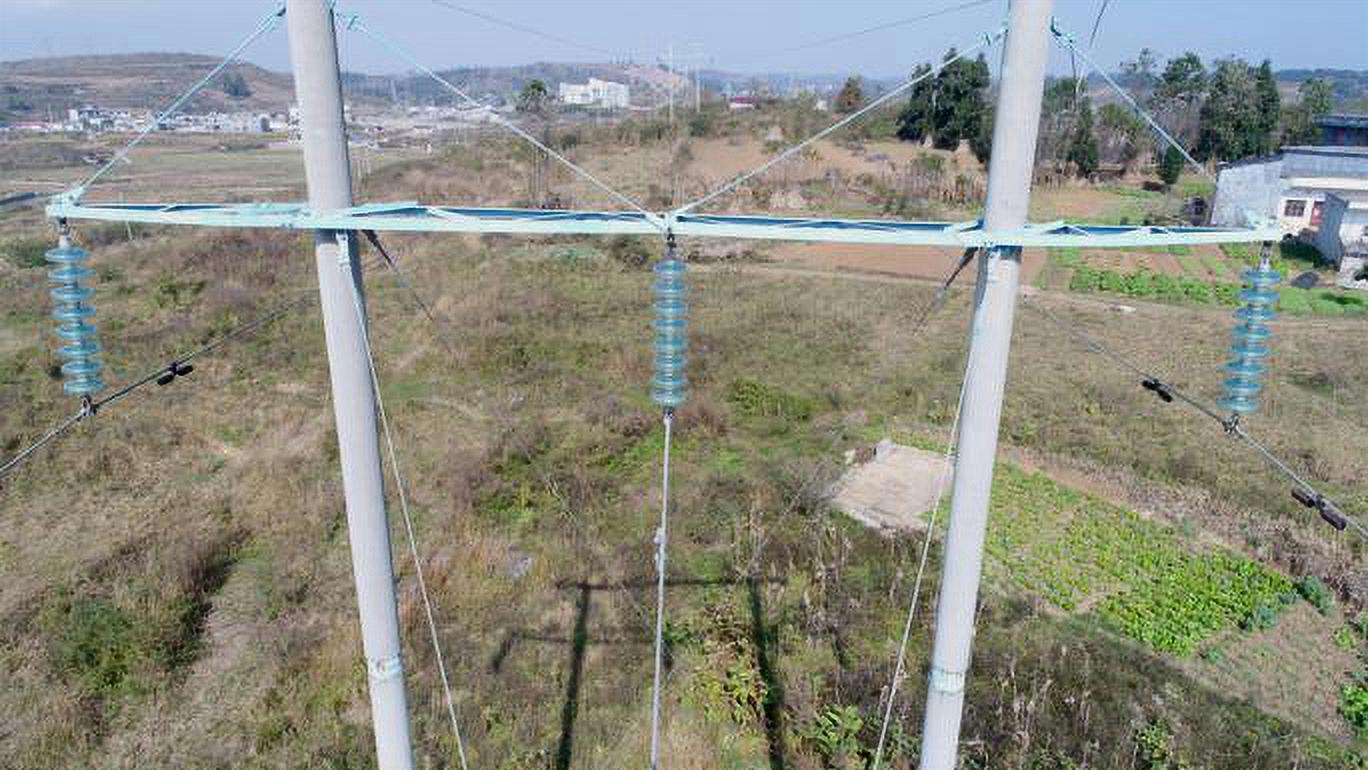insulator: (1208, 262, 1288, 422), (37, 240, 114, 402), (644, 252, 692, 415)
